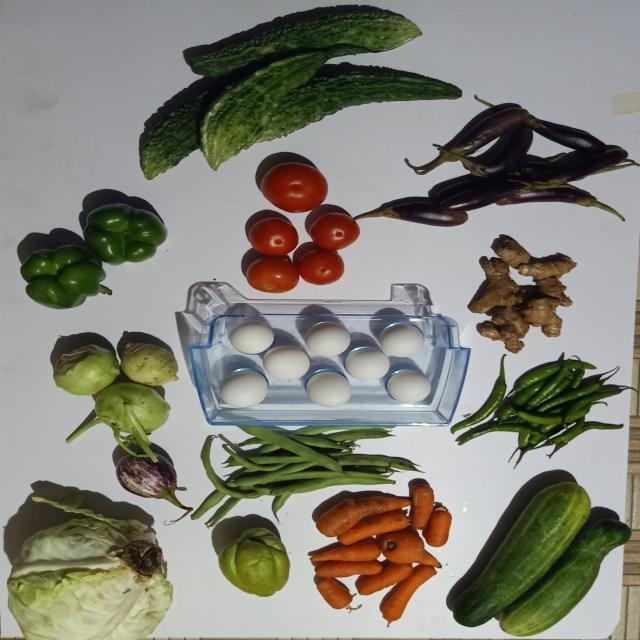Beans: (191, 426, 418, 527), (191, 426, 417, 527), (191, 426, 418, 526), (238, 427, 345, 475), (382, 566, 437, 625), (248, 217, 298, 255), (336, 455, 421, 472)
Bitter Gourd: (139, 4, 462, 178), (257, 62, 462, 141), (259, 62, 462, 141), (200, 51, 328, 169), (141, 89, 212, 179)
Brinjal: (547, 147, 629, 183), (441, 180, 525, 211), (392, 202, 469, 226), (497, 187, 594, 205)
Cabbage: (6, 494, 172, 640)
Capsicum: (83, 203, 167, 264)
Carrot: (316, 497, 411, 538), (260, 162, 328, 213), (337, 510, 410, 546), (246, 255, 299, 293), (248, 217, 298, 255), (310, 212, 360, 250), (297, 249, 344, 285), (408, 479, 435, 531), (423, 504, 452, 548)
Cucumber: (453, 483, 592, 628), (497, 520, 632, 637), (218, 528, 289, 598)
Egg: (219, 369, 268, 408), (306, 371, 351, 408), (304, 322, 350, 357), (262, 346, 309, 380), (381, 323, 424, 358), (387, 370, 431, 404), (345, 348, 390, 381), (229, 322, 274, 354)
Eggplant: (115, 455, 191, 514)
Ginger: (468, 256, 522, 313), (522, 297, 563, 337), (518, 257, 578, 280), (495, 236, 531, 268)
Green Chilly: (452, 356, 631, 465), (451, 356, 628, 465), (452, 356, 631, 460)
Turnip: (94, 383, 169, 462), (52, 345, 119, 396), (120, 344, 178, 386)
